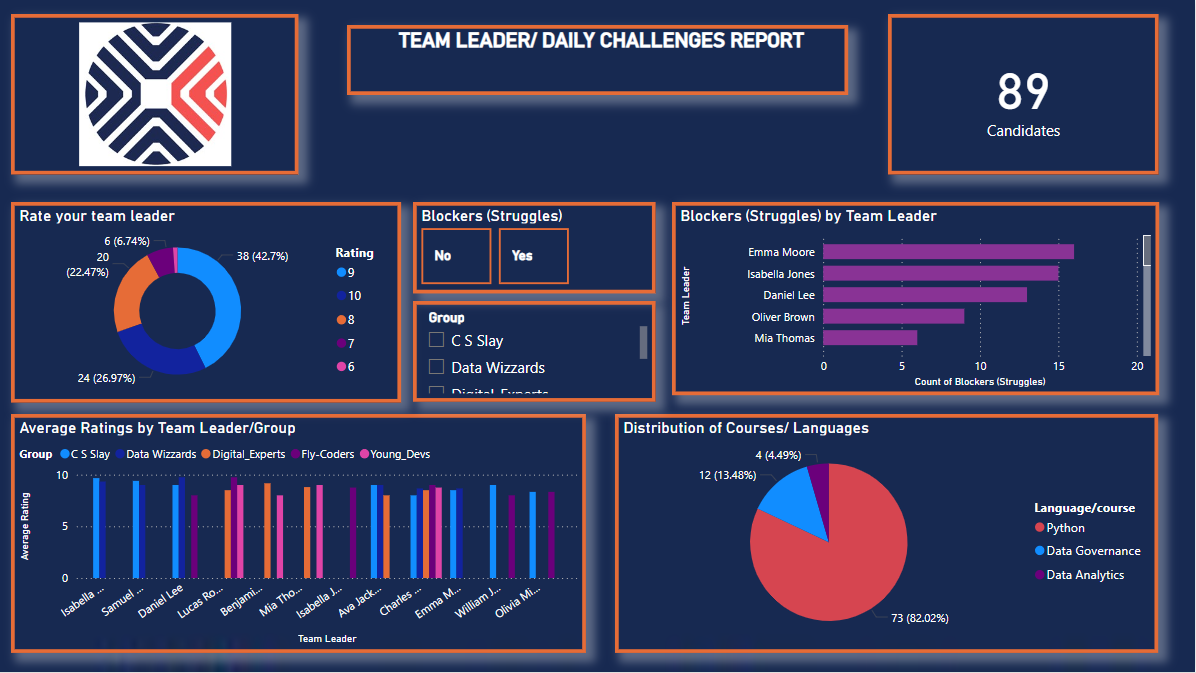

The dashboard page shown, as its layout file describes it:
{"tool":"powerbi","page":{"name":"Team Leader","canvas":[1280,720],"ordinal":0},"visuals":[{"type":"donutChart","title":"Rate your team leader","fields":{"Category":["Team Leader Survey.Rate your team leader"],"Y":["CountNonNull(Team Leader Survey.ID)"]},"box":[11.6,215.9,417.7,214.6],"z":0},{"type":"advancedSlicerVisual","title":"Blockers (Struggles)","fields":{"Values":["Daily Challenges Survey.Blockers (Struggles)"]},"box":[442.1,216,259.9,97.9],"z":1000},{"type":"barChart","title":"Blockers (Struggles) by Team Leader","fields":{"Category":["Daily Challenges Survey.Team Leader Name & Surname"],"Y":["CountNonNull(Daily Challenges Survey.Blockers (Struggles))"]},"box":[720,216,522,207],"z":2000},{"type":"pieChart","title":"Distribution of Courses/ Languages","fields":{"Category":["Daily Challenges Survey.Which language/course are you currently busy with ?"],"Y":["CountNonNull(Daily Challenges Survey.ID)"]},"box":[659.3,443.4,582.2,255.7],"z":3000},{"type":"clusteredColumnChart","title":"Average Ratings by Team Leader/Group","fields":{"Category":["Team Leader Survey.Team Leader Name & Surname"],"Series":["Team Leader Survey.Group"],"Y":["Avg(Team Leader Survey.Rate your team leader)"]},"box":[11.6,443.4,615.6,255.7],"z":4000},{"type":"slicer","fields":{"Values":["Daily Challenges Survey.Group"]},"box":[442.1,322.9,259.9,108],"z":5000},{"type":"textbox","title":"TEAM LEADER/ DAILY CHALLENGES REPORT","box":[371.4,27,537.2,74.5],"z":6000},{"type":"image","box":[11.6,15.4,308.4,172.2],"z":7000},{"type":"card","fields":{"Values":["Count(Candidate Details)"]},"box":[951,15.4,290.4,172.2],"z":8000}]}

Visuals, with their boxes in screenshot pixels (x1, y1, x2, y2), scaled from the page's 1280x720 canvas onto the 1196x673 screenshot:
"Rate your team leader" donutChart: 11:202:401:402
"Blockers (Struggles)" advancedSlicerVisual: 413:202:656:293
"Blockers (Struggles) by Team Leader" barChart: 673:202:1160:395
"Distribution of Courses/ Languages" pieChart: 616:414:1160:653
"Average Ratings by Team Leader/Group" clusteredColumnChart: 11:414:586:653
slicer - Daily Challenges Survey.Group: 413:302:656:403
"TEAM LEADER/ DAILY CHALLENGES REPORT" textbox: 347:25:849:95
image: 11:14:299:175
card - Count(Candidate Details): 889:14:1160:175
